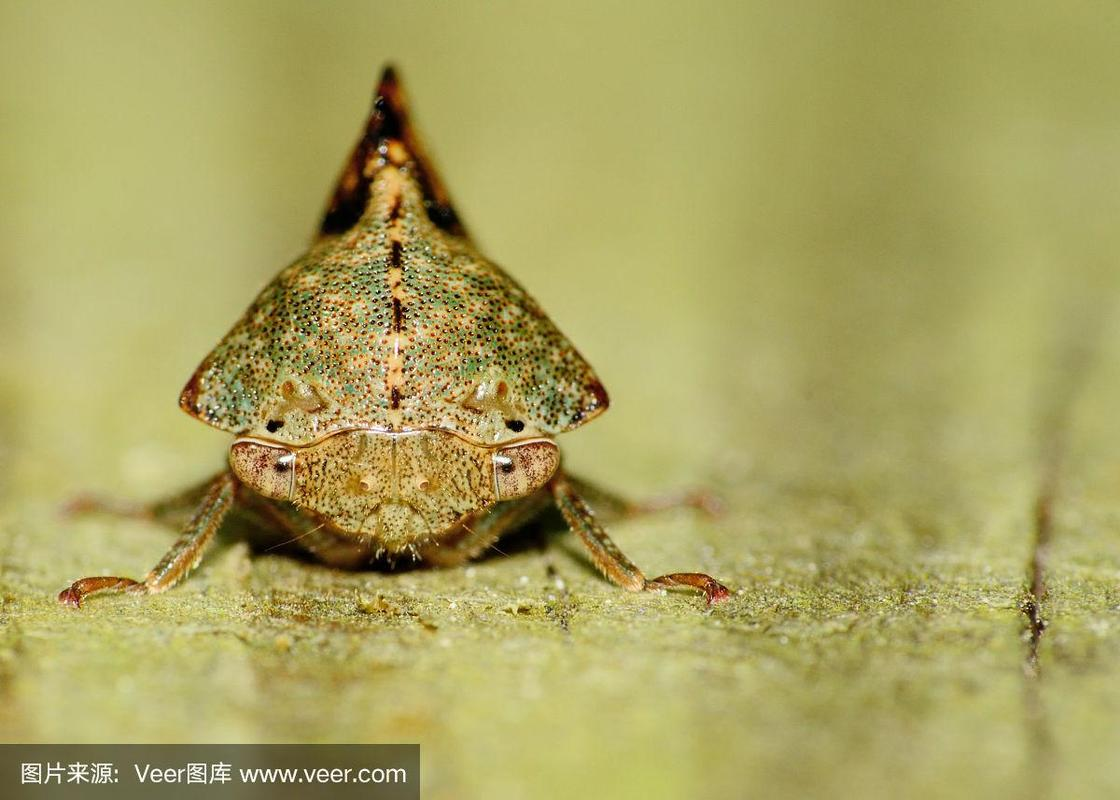Cicadellidae: (58, 66, 731, 607)
